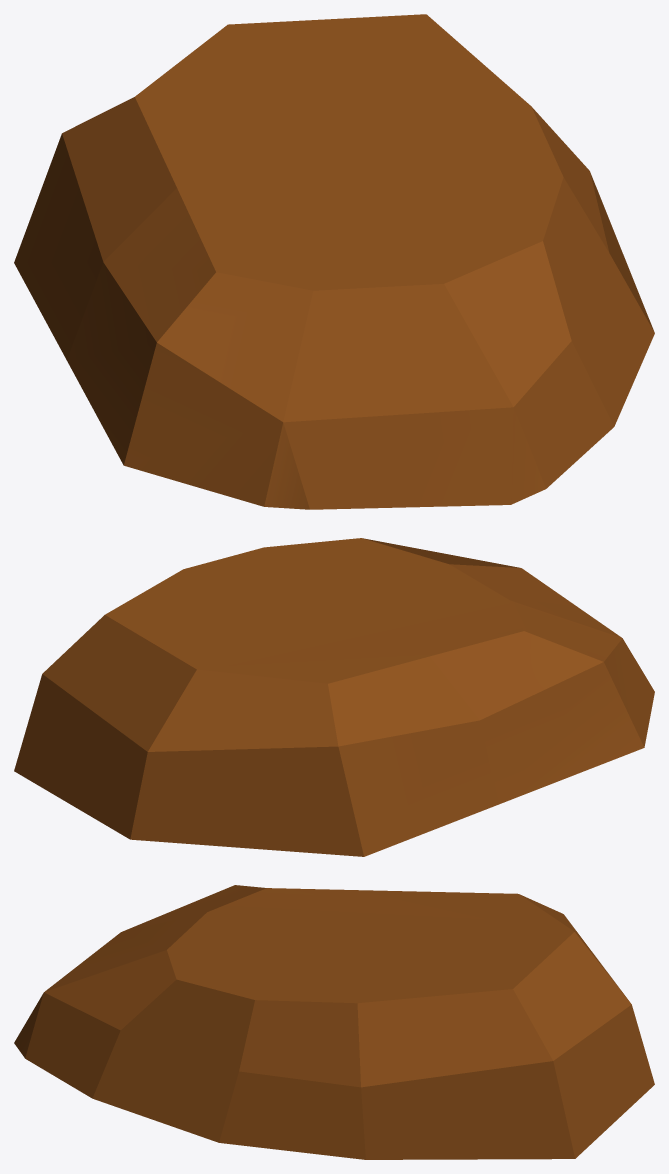
Rendered from HardRock_58.fbx.
3 views of the same model, one above another, from view 1: azimuth 30°, elevation 25°; view 2: azimuth 150°, elevation 25°; view 3: azimuth 270°, elevation 25° (orthographic). The views are drawn at different scales.
Parts seen in each view (by area): view 1: HardRock_58; view 2: HardRock_58; view 3: HardRock_58.
Part boxes in pixels (bbox=[...]): HardRock_58: bbox=[14, 14, 654, 509]; HardRock_58: bbox=[14, 538, 654, 856]; HardRock_58: bbox=[14, 885, 654, 1159].
Size of the model in its own units: 176 by 56.1 by 226.
